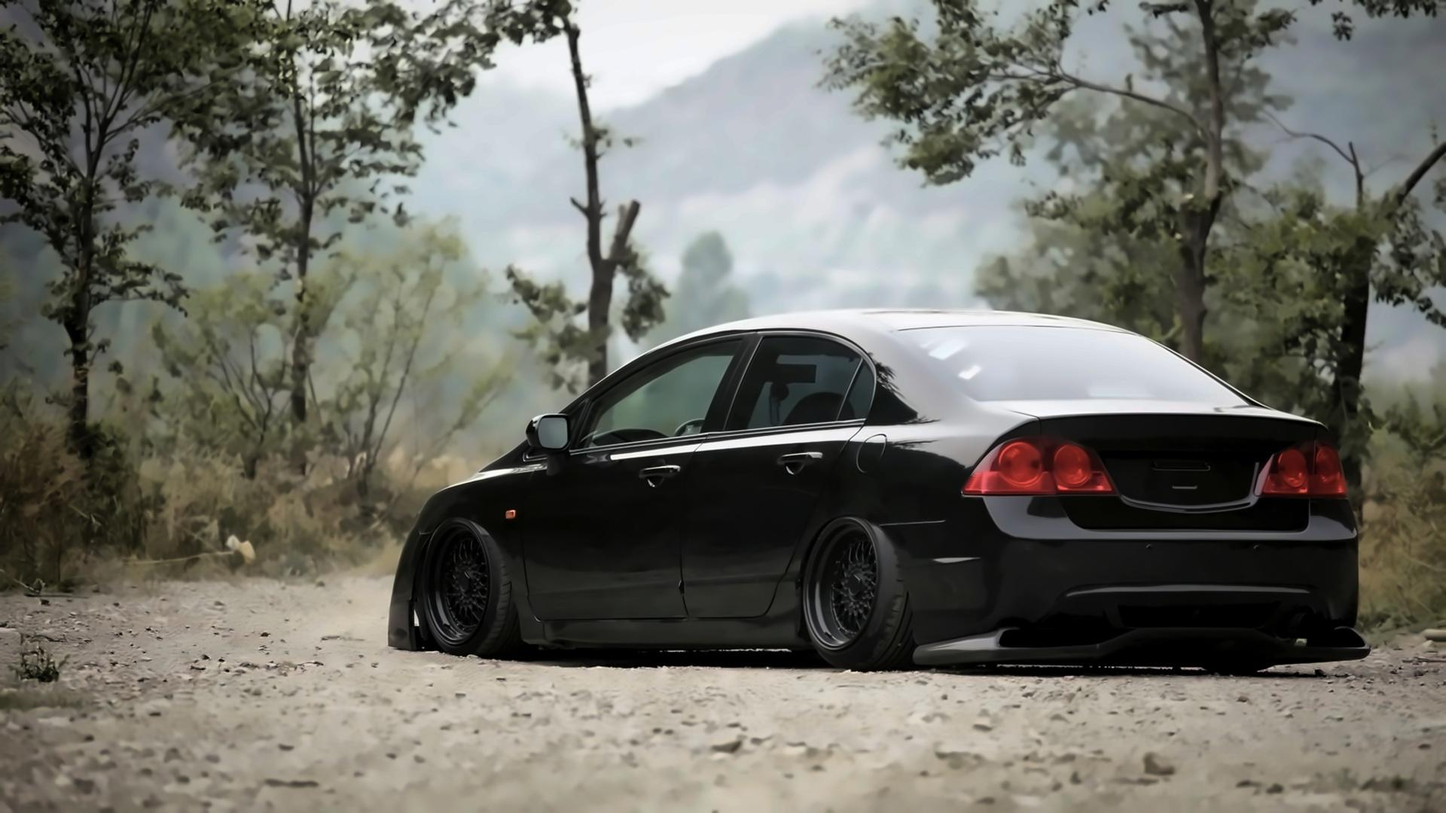Car boot: (980, 393, 1329, 533)
Fender - -F-L-: (414, 451, 522, 641)
Fender - -R-L-: (787, 391, 963, 632)
Front bumper: (384, 536, 438, 655)
Passenger-s door - -F-L-: (520, 325, 684, 629)
Passenger-s door - -R-L-: (683, 329, 878, 629)
Rear bumper: (911, 503, 1385, 681)
Rear light - -L-: (954, 423, 1125, 508)
Rear light - -R-: (1240, 420, 1359, 506)
Side bumper - -L-: (517, 599, 812, 664)
Side mirror - -L-: (519, 404, 582, 459)
